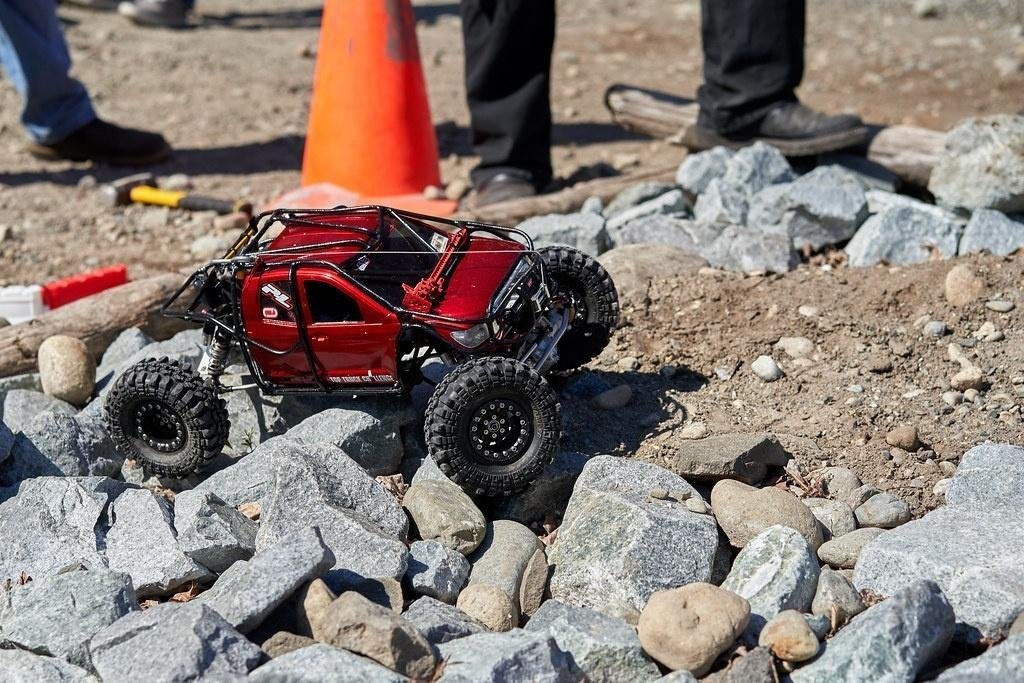Car: (90, 208, 678, 526)
